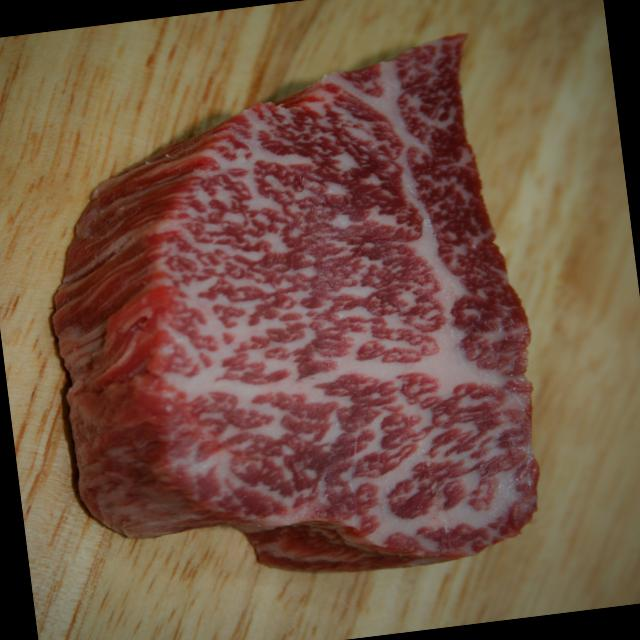beef: (94, 51, 524, 546)
